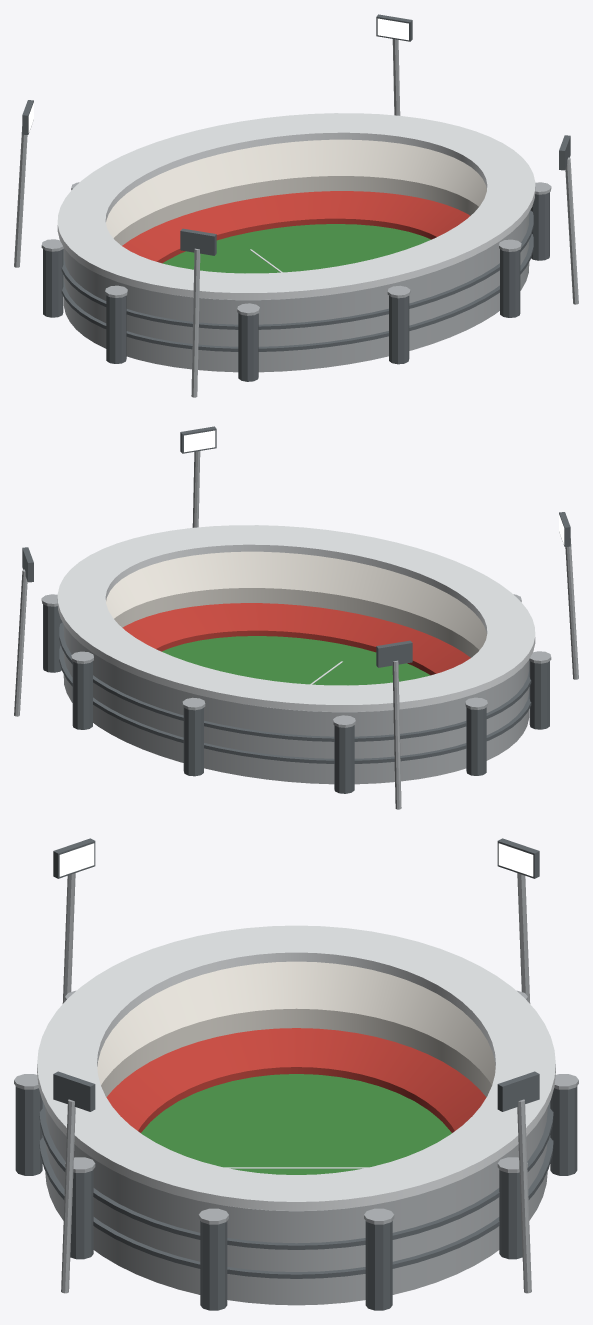
The model's file is dekuip.glb.
3 views of the same model, one above another, from view 1: azimuth 30°, elevation 25°; view 2: azimuth 150°, elevation 25°; view 3: azimuth 270°, elevation 25° (orthographic). The views are drawn at different scales.
Visible parts, largest first — view 1: dakrand, gevel, boven, ondering, veld, omloop16, omloop8, trap6, trap5, trap7, trap8, trap4 (+7 smaller); view 2: dakrand, gevel, boven, ondering, veld, omloop16, omloop8, trap3, trap4, trap1, trap2, trap5 (+7 smaller); view 3: dakrand, gevel, boven, veld, ondering, omloop16, omloop8, trap0, trap9, trap2, trap7, trap1 (+9 smaller).
Boxes of the visible parts, x1,y1,x2,y2 form: dakrand: (57, 113, 535, 299); gevel: (63, 212, 529, 372); boven: (106, 139, 486, 245); ondering: (122, 191, 470, 263); veld: (162, 224, 430, 273); omloop16: (61, 210, 533, 329); omloop8: (61, 234, 533, 351); trap6: (238, 313, 258, 381); trap5: (106, 295, 126, 363); trap7: (389, 295, 409, 364); trap8: (500, 249, 520, 317); trap4: (43, 249, 63, 317); dakrand: (57, 525, 535, 711); gevel: (63, 624, 529, 784); boven: (106, 551, 486, 657); ondering: (122, 603, 470, 675); veld: (162, 636, 430, 685); omloop16: (59, 622, 531, 741); omloop8: (59, 646, 531, 763); trap3: (334, 725, 354, 793); trap4: (466, 707, 486, 775); trap1: (72, 661, 92, 729); trap2: (183, 707, 203, 776); trap5: (529, 661, 549, 729); dakrand: (37, 925, 555, 1210); gevel: (45, 1106, 547, 1305); boven: (97, 961, 495, 1096); veld: (141, 1074, 451, 1174); ondering: (106, 1028, 486, 1132); omloop16: (39, 1101, 553, 1249); omloop8: (39, 1135, 553, 1278); trap0: (365, 1221, 392, 1310); trap9: (200, 1221, 227, 1310); trap2: (550, 1086, 577, 1175); trap7: (15, 1086, 42, 1175); trap1: (499, 1169, 522, 1259).
Bounding box in the file's own units: 167 × 57.55 × 142.
